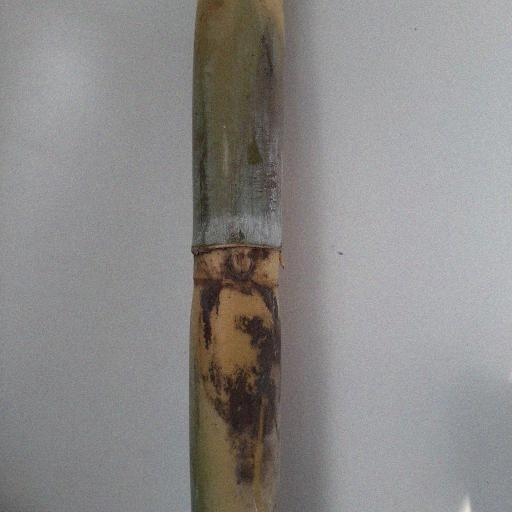Bud: (226, 249, 256, 280)
